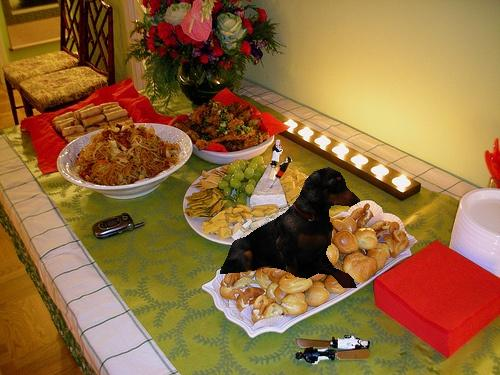tampered: (221, 168, 360, 288)
